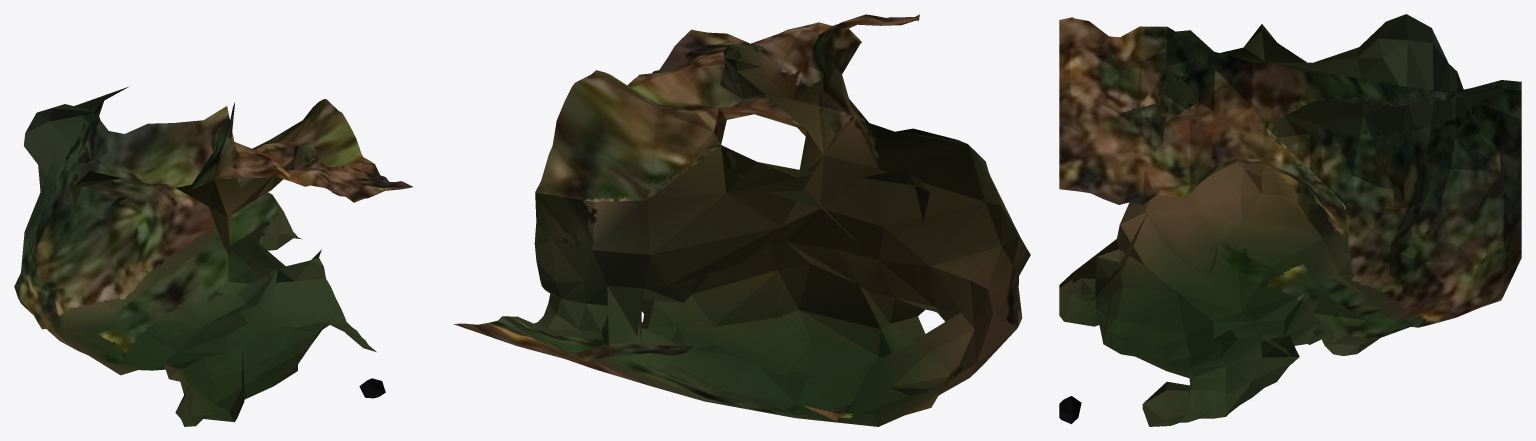
3 views of the same model, side by side, from view 1: azimuth 30°, elevation 25°; view 2: azimuth 150°, elevation 25°; view 3: azimuth 270°, elevation 25° (orthographic). The views are drawn at different scales.
Bounding box in the file's own units: 0.7833 × 0.6432 × 0.8374.
6 materials, 6 textured.
